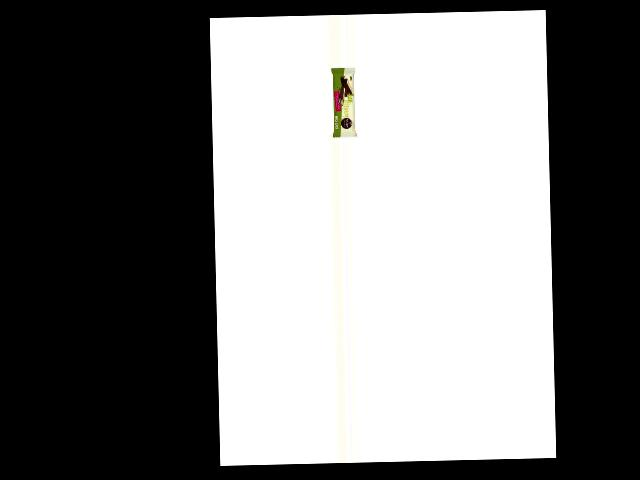chocolate: (328, 66, 358, 137)
